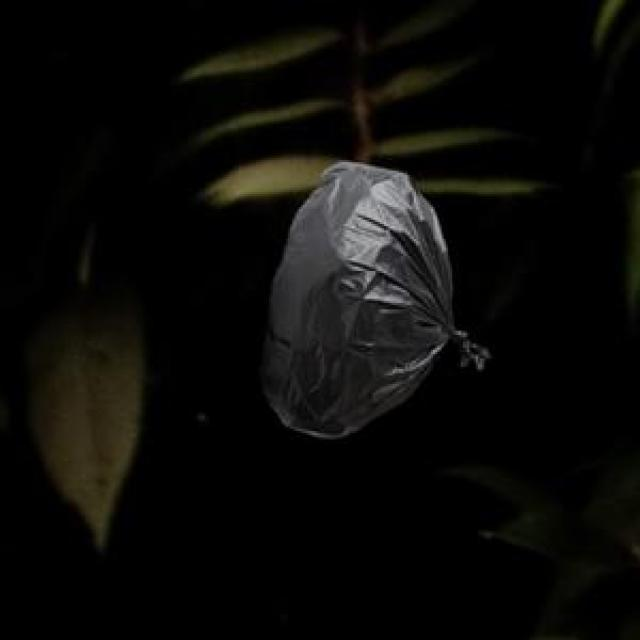Vinyl: (261, 161, 454, 438)
